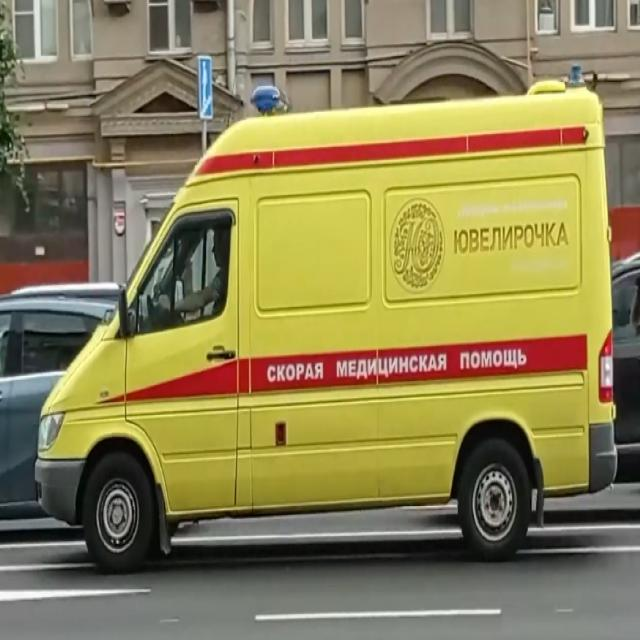intensive care unit: (36, 64, 614, 573)
